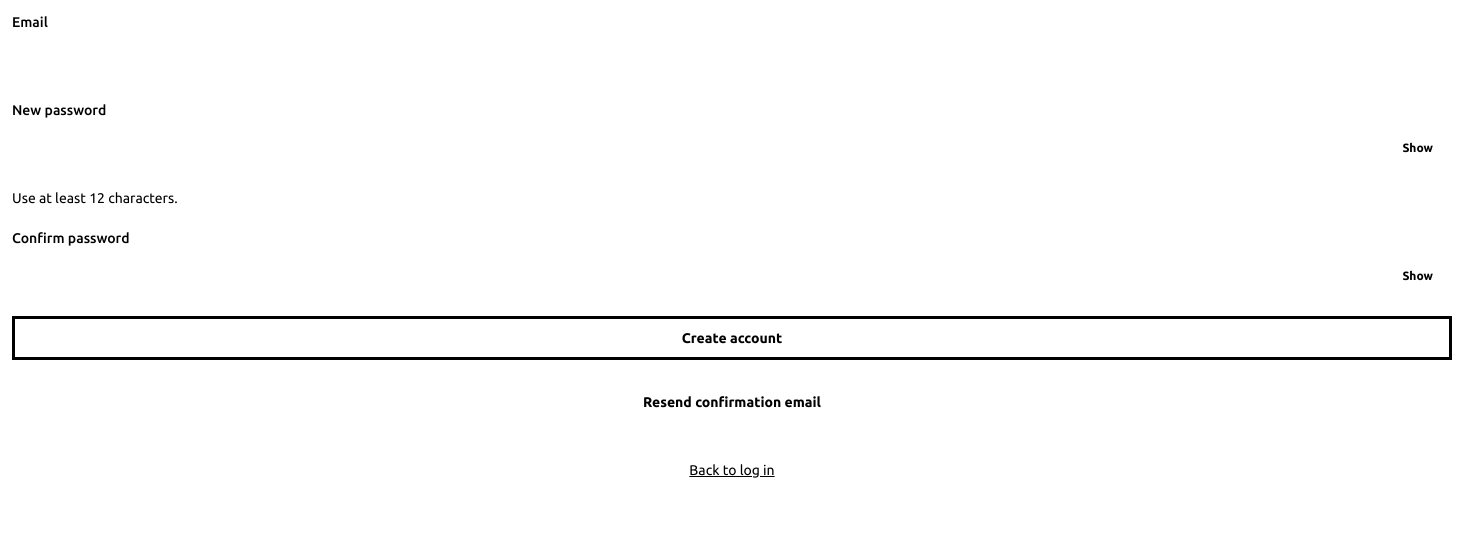
authentication components › announces confirmation-password errors
Click the button "Create account".
click(732, 338)  # box x1=12 y1=316 x2=1452 y2=360
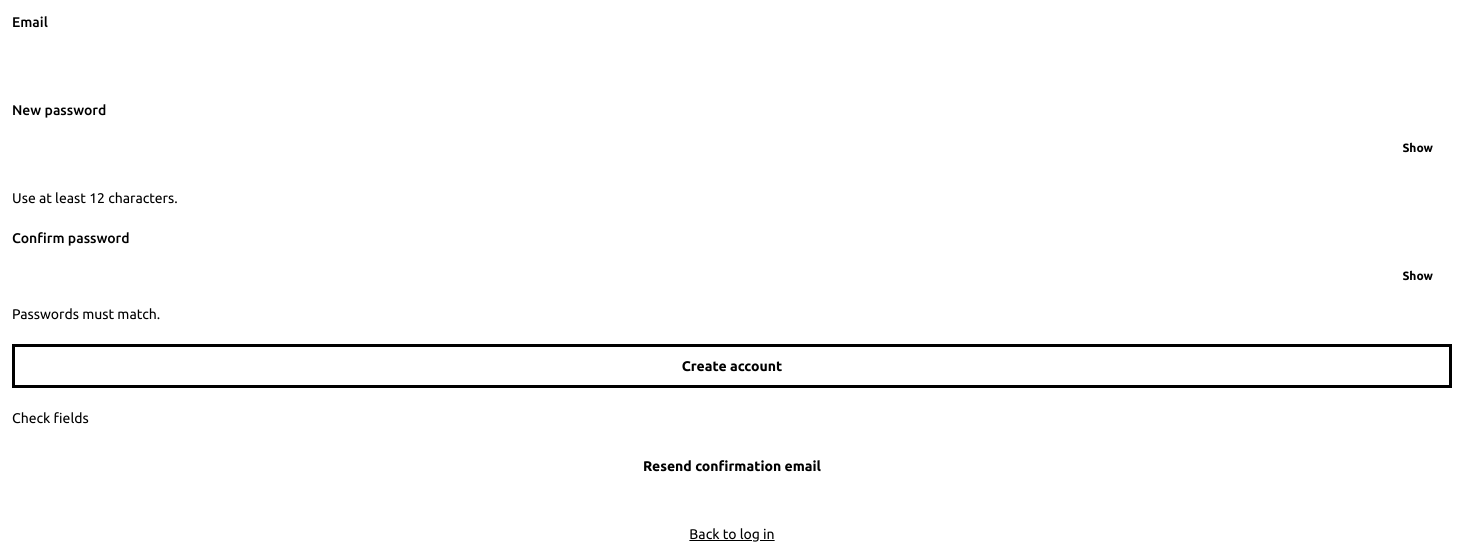
Now the text "Passwords must match." is shown, box x1=12 y1=306 x2=160 y2=322
